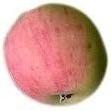fruit: (2, 3, 109, 106)
